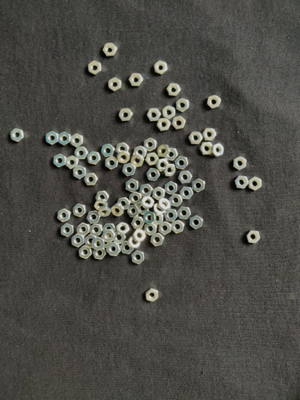nut: (10, 128, 25, 143), (103, 43, 118, 57), (176, 98, 190, 113), (147, 108, 162, 122), (73, 203, 87, 218), (79, 245, 93, 260), (88, 61, 102, 75), (154, 61, 168, 75), (167, 83, 181, 97), (207, 95, 221, 109), (157, 118, 171, 132), (172, 116, 186, 130), (235, 175, 249, 189), (101, 144, 115, 158), (53, 154, 67, 168), (117, 150, 131, 164), (156, 158, 170, 172), (147, 168, 161, 182), (192, 179, 206, 193), (133, 229, 147, 243), (116, 222, 130, 236), (71, 234, 85, 248), (129, 73, 144, 86), (212, 143, 225, 158), (234, 156, 247, 171), (178, 171, 193, 184), (86, 211, 101, 224), (61, 223, 74, 238), (132, 250, 145, 265), (109, 78, 122, 92), (119, 108, 133, 121), (189, 132, 203, 145), (203, 128, 217, 141), (249, 177, 262, 191), (247, 231, 261, 244), (46, 131, 59, 145), (75, 147, 89, 160), (87, 152, 101, 165), (66, 155, 79, 169), (73, 166, 86, 180), (84, 173, 98, 186), (106, 156, 119, 170), (144, 138, 157, 152), (131, 154, 145, 167), (123, 164, 137, 177), (146, 152, 159, 166), (165, 148, 179, 161), (175, 156, 189, 169), (126, 179, 139, 193), (140, 184, 154, 197), (165, 181, 178, 195), (180, 187, 194, 200), (129, 191, 142, 205), (58, 209, 71, 223), (177, 207, 191, 220), (172, 220, 185, 234), (151, 233, 164, 247), (127, 236, 141, 249), (77, 223, 91, 236), (121, 241, 134, 255), (92, 237, 105, 251), (106, 243, 120, 256), (146, 288, 159, 302), (133, 146, 148, 158), (94, 199, 109, 211), (163, 106, 176, 119), (200, 142, 213, 155), (58, 132, 71, 145), (71, 134, 84, 147), (157, 144, 170, 157), (163, 164, 176, 177), (170, 194, 183, 207), (158, 198, 171, 211), (128, 205, 141, 218), (190, 216, 203, 229), (165, 209, 178, 222), (159, 222, 172, 235), (85, 235, 98, 248), (116, 142, 130, 154), (153, 187, 165, 201), (141, 197, 155, 209), (131, 217, 145, 229), (102, 230, 116, 242), (95, 191, 110, 202), (117, 198, 130, 210), (112, 204, 124, 217), (153, 203, 166, 215), (144, 212, 156, 225), (152, 212, 164, 225), (145, 224, 158, 236), (103, 224, 116, 236), (90, 224, 103, 236), (113, 232, 126, 244), (99, 236, 112, 248), (93, 248, 106, 260), (138, 203, 150, 215), (98, 207, 112, 217)
